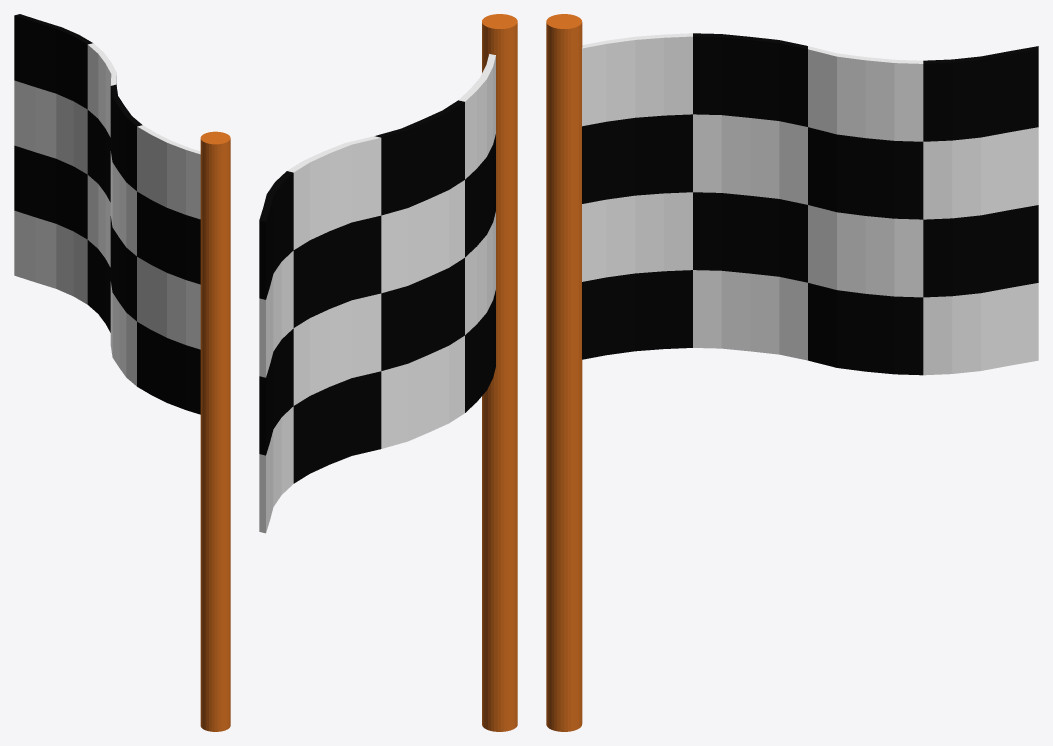
File: raceflag_new.glb
3 renders of one model, left to right at view 1: azimuth 30°, elevation 25°; view 2: azimuth 150°, elevation 25°; view 3: azimuth 270°, elevation 25°, orthographic. The views are drawn at different scales.
Visible parts, largest first — view 1: Cube, Cube.001, Cylinder; view 2: Cube, Cube.001, Cylinder; view 3: Cube, Cube.001, Cylinder.
Boxes of the visible parts, x1,y1,x2,y2 form: Cube: (14,14,200,414); Cube.001: (14,43,200,386); Cylinder: (200,131,230,731); Cube: (259,100,495,483); Cube.001: (259,54,495,533); Cylinder: (482,14,517,731); Cube: (582,33,1038,375); Cube.001: (582,33,1038,375); Cylinder: (546,14,582,731).
Size of the model in its own units: 0.3736 by 3.99 by 2.53.
